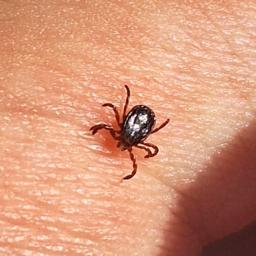Rhipicephalus sanguineus: (87, 85, 170, 181)
